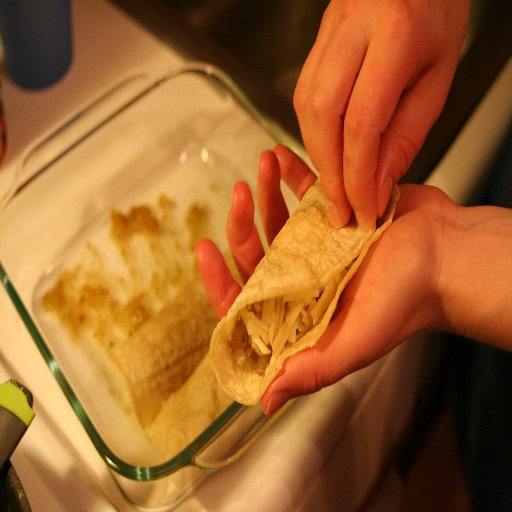hand: (195, 138, 443, 419), (277, 1, 480, 233)
